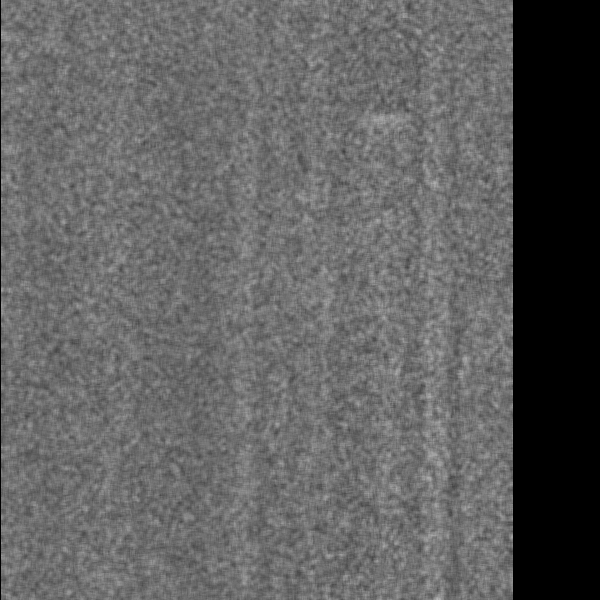spark: (352, 108, 410, 136)
